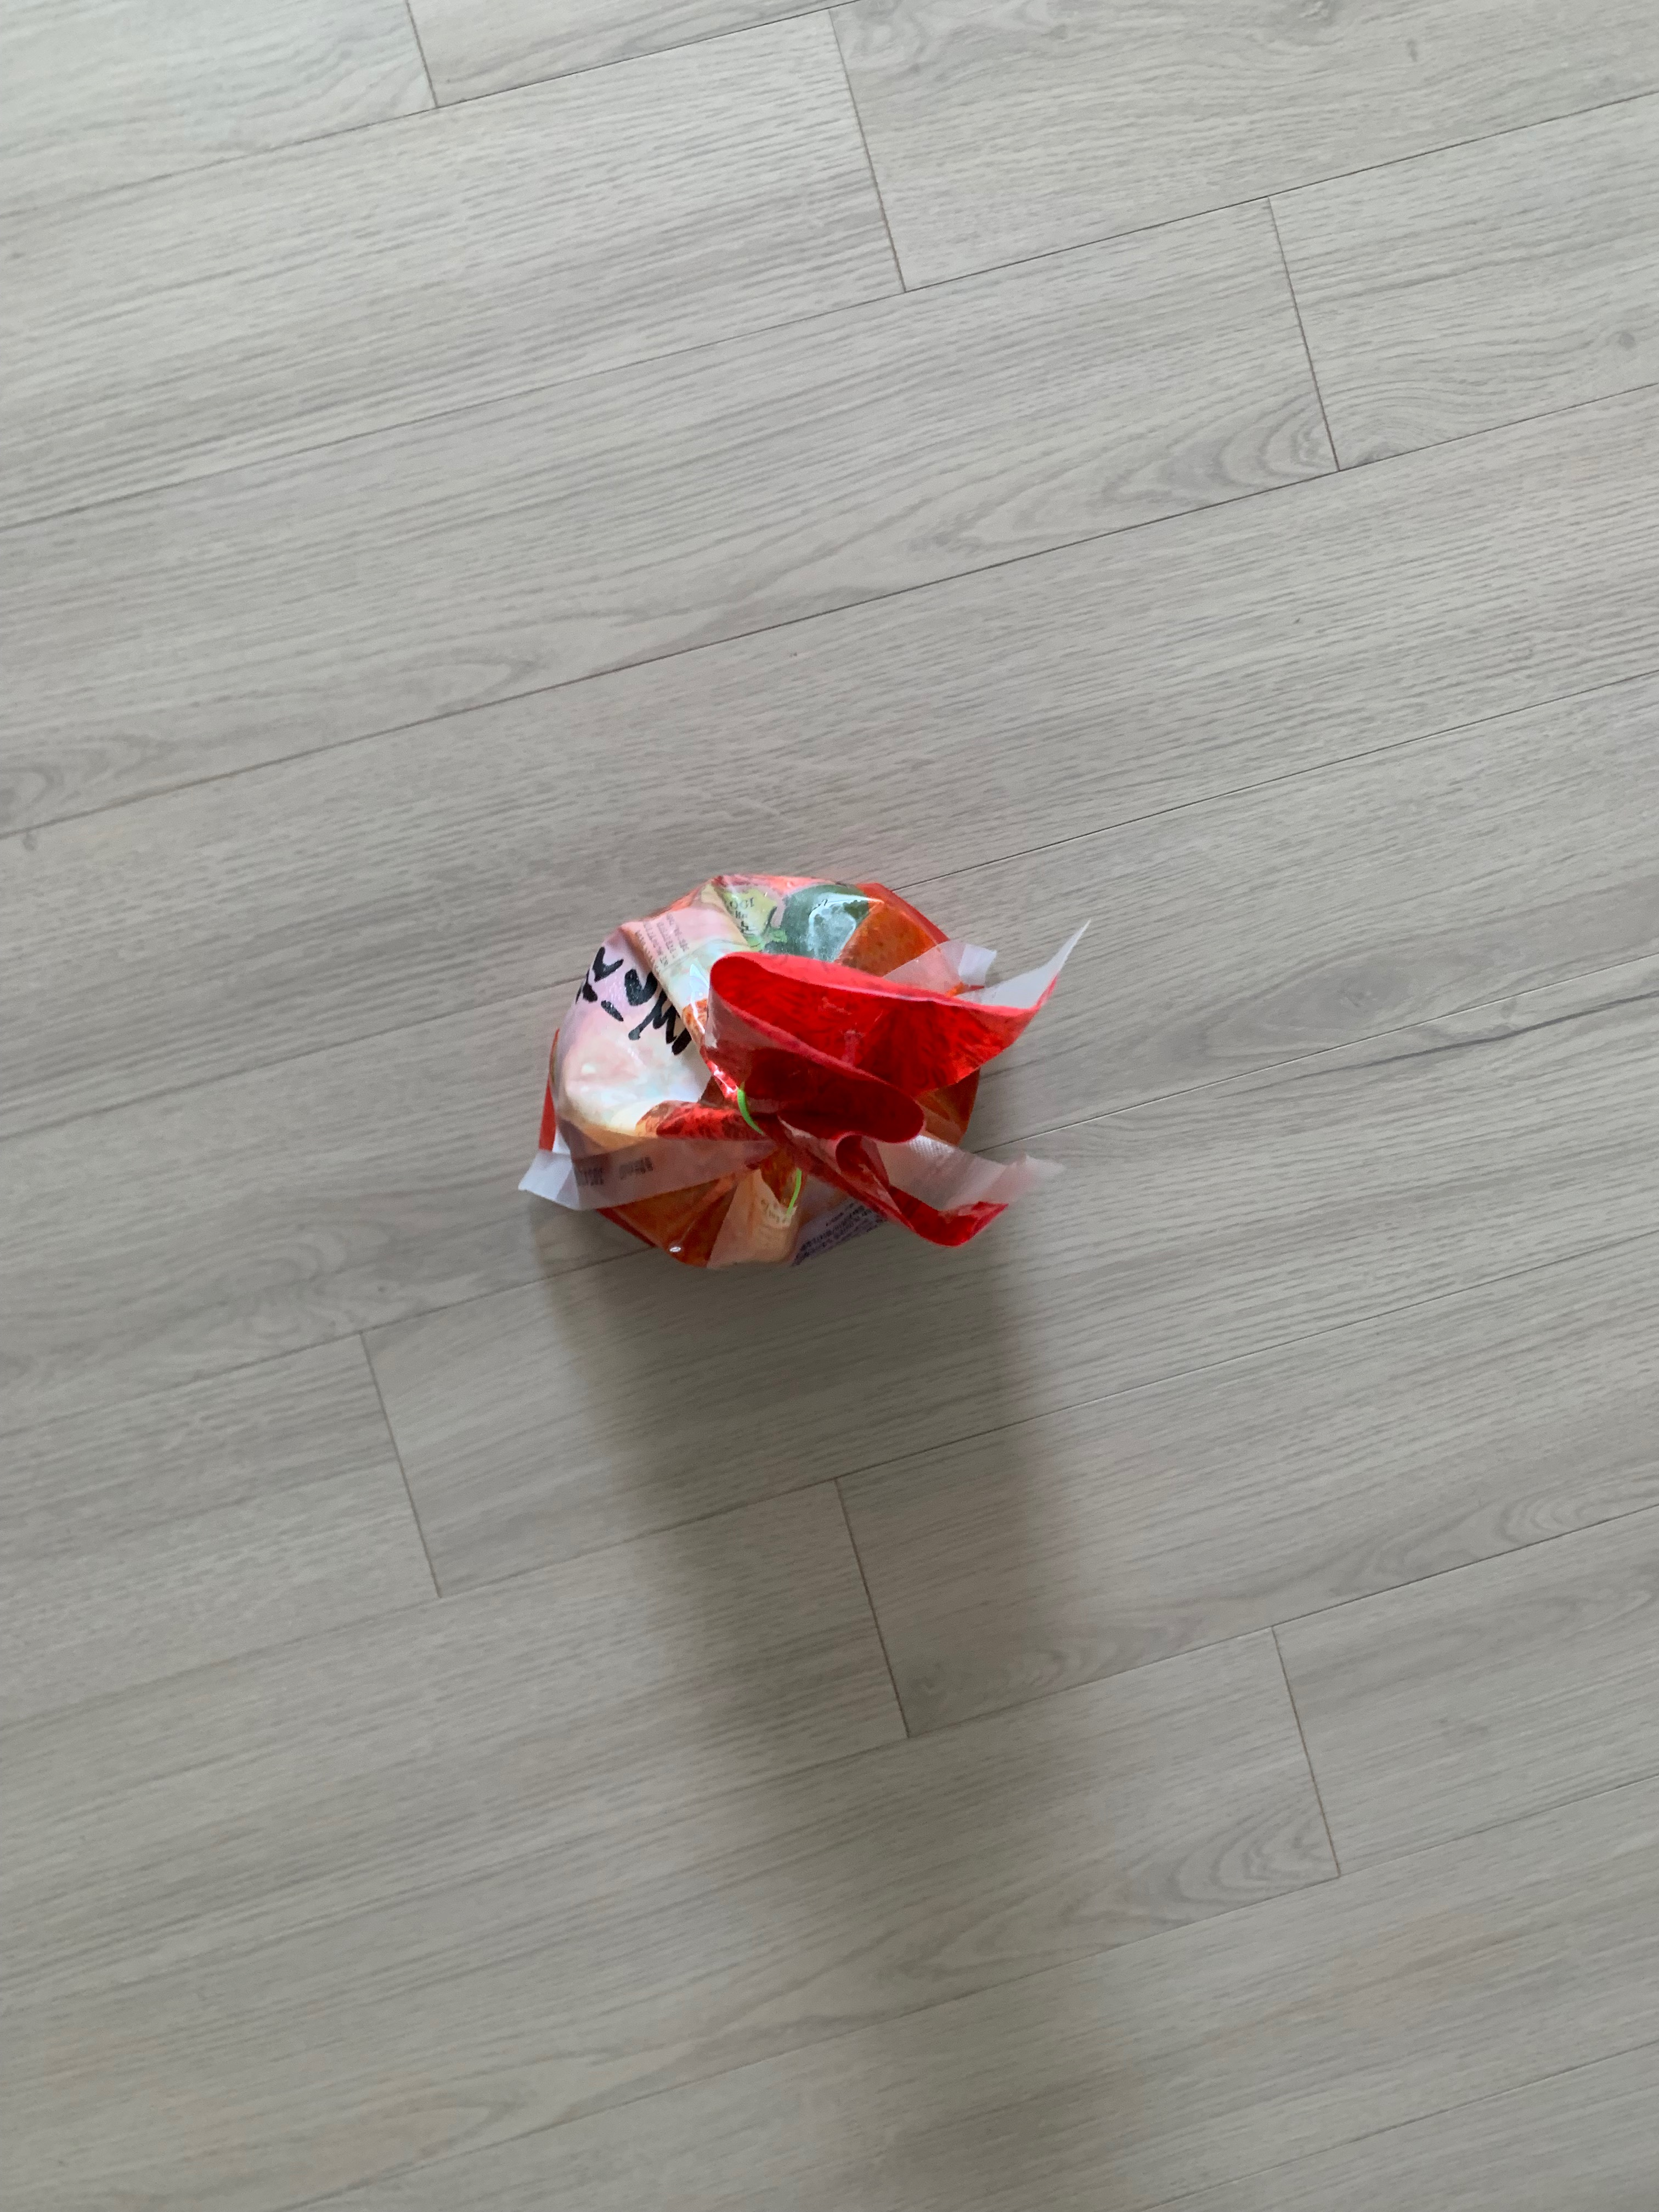kimchi: (549, 867, 1030, 1268)
